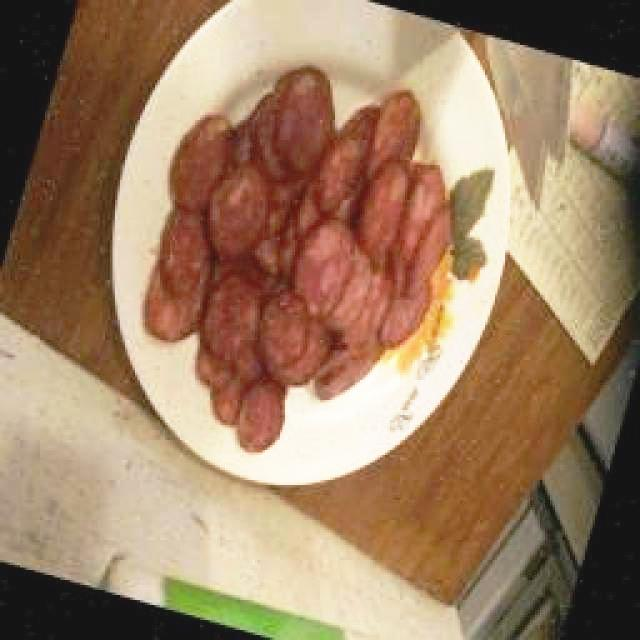chinese_sausage: (147, 67, 449, 452)
